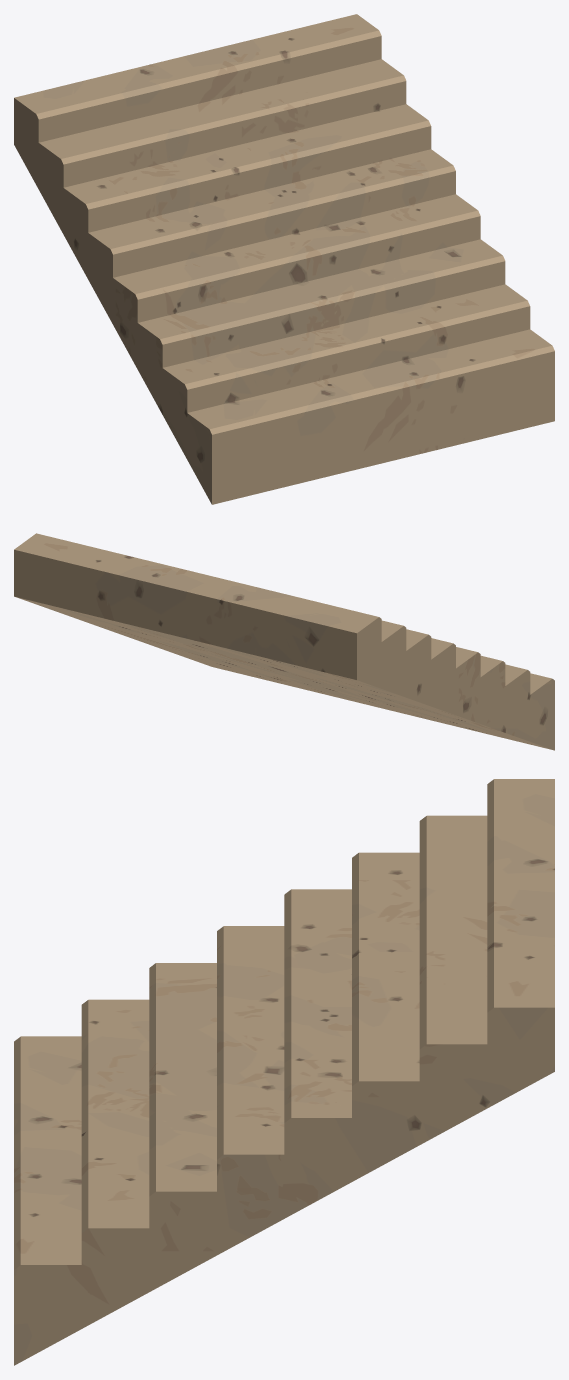
File: SM_Bld_Stairs_01.fbx
3 renders of one model, top to bottom at view 1: azimuth 30°, elevation 25°; view 2: azimuth 150°, elevation 25°; view 3: azimuth 270°, elevation 25°, orthographic. The views are drawn at different scales.
Parts seen in each view (by area): view 1: SM_Bld_Stairs_01; view 2: SM_Bld_Stairs_01; view 3: SM_Bld_Stairs_01.
Boxes of the visible parts, <box> form: SM_Bld_Stairs_01: <box>14,14,554,504</box>; SM_Bld_Stairs_01: <box>14,533,554,750</box>; SM_Bld_Stairs_01: <box>14,779,554,1365</box>.
Size of the model in its own units: 250 by 183 by 250.
